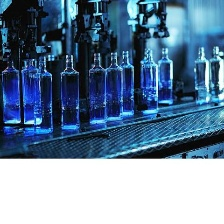bottle: (57, 50, 82, 132), (33, 54, 56, 135), (103, 51, 127, 122), (21, 55, 44, 126), (136, 47, 160, 114), (89, 50, 110, 125), (117, 46, 138, 119), (0, 56, 20, 127), (154, 45, 176, 107), (192, 44, 209, 107), (206, 44, 223, 104)
